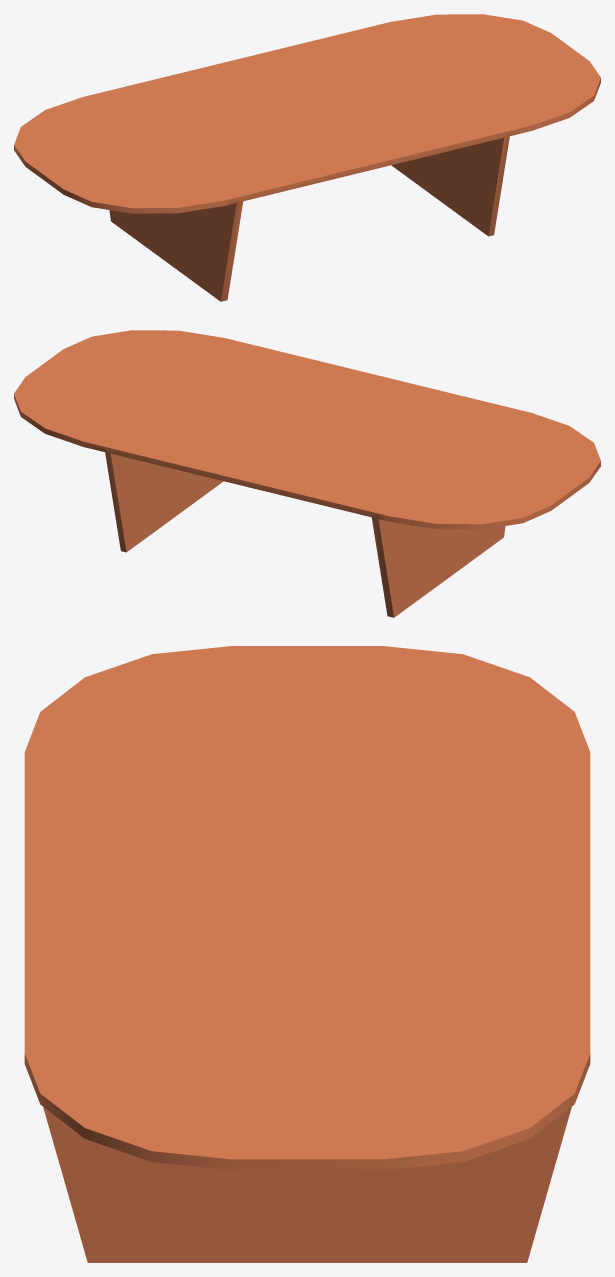
Rendered from table.fbx.
3 views of the same model, one above another, from view 1: azimuth 30°, elevation 25°; view 2: azimuth 150°, elevation 25°; view 3: azimuth 270°, elevation 25° (orthographic). The views are drawn at different scales.
Visible parts, largest first — view 1: pCube8; view 2: pCube8; view 3: pCube8.
Boxes of the visible parts, <box> form: pCube8: <box>14,14,600,301</box>; pCube8: <box>14,330,600,617</box>; pCube8: <box>24,646,590,1262</box>.
Size of the model in its own units: 15.13 by 7.05 by 3.18.
